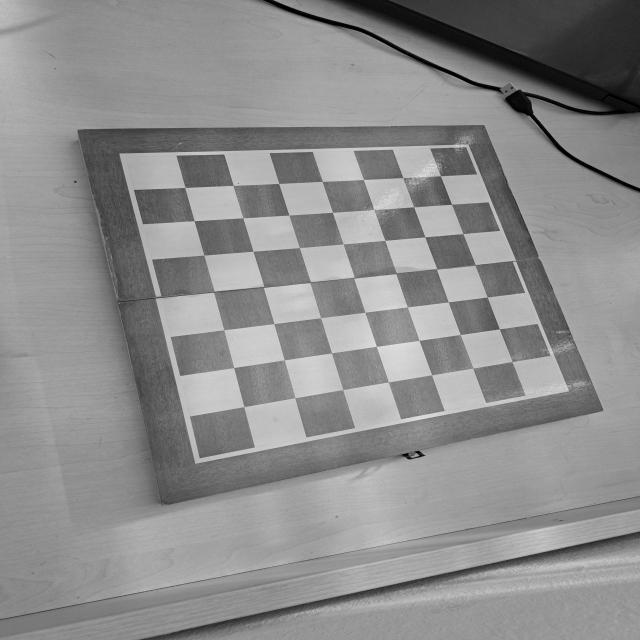chess-table-corners: (185, 448, 214, 468), (111, 149, 141, 168), (550, 380, 577, 397), (453, 140, 477, 156)
